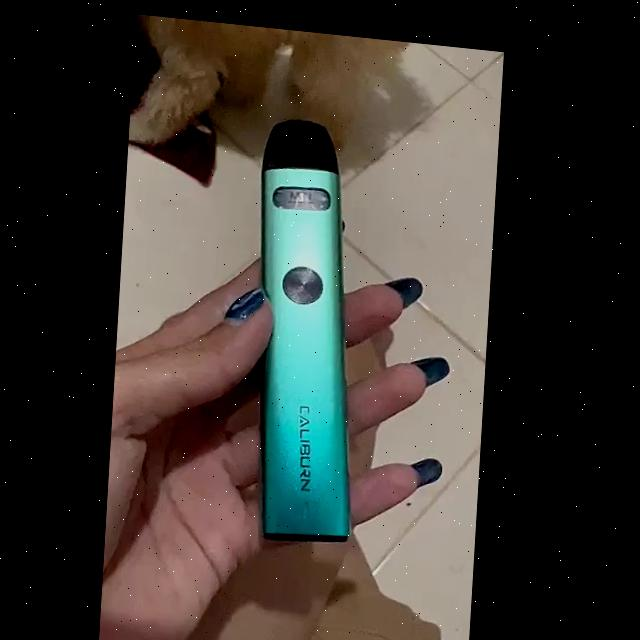vape: (245, 111, 375, 544)
